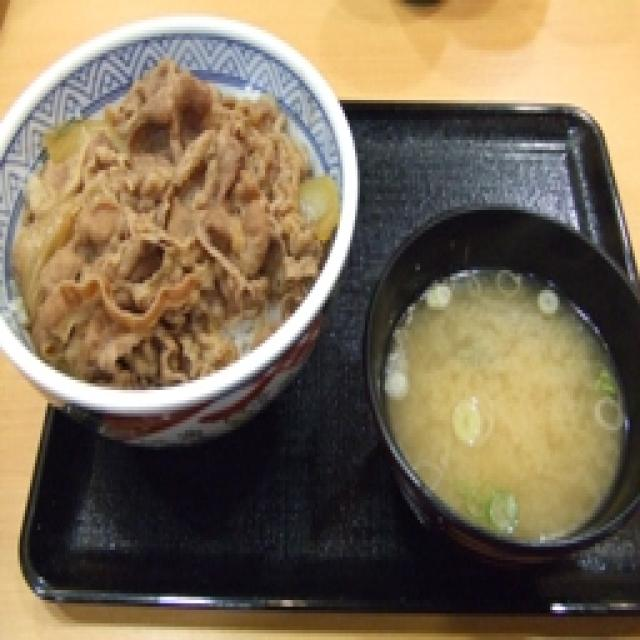汤锅炖物: (360, 200, 640, 560)
